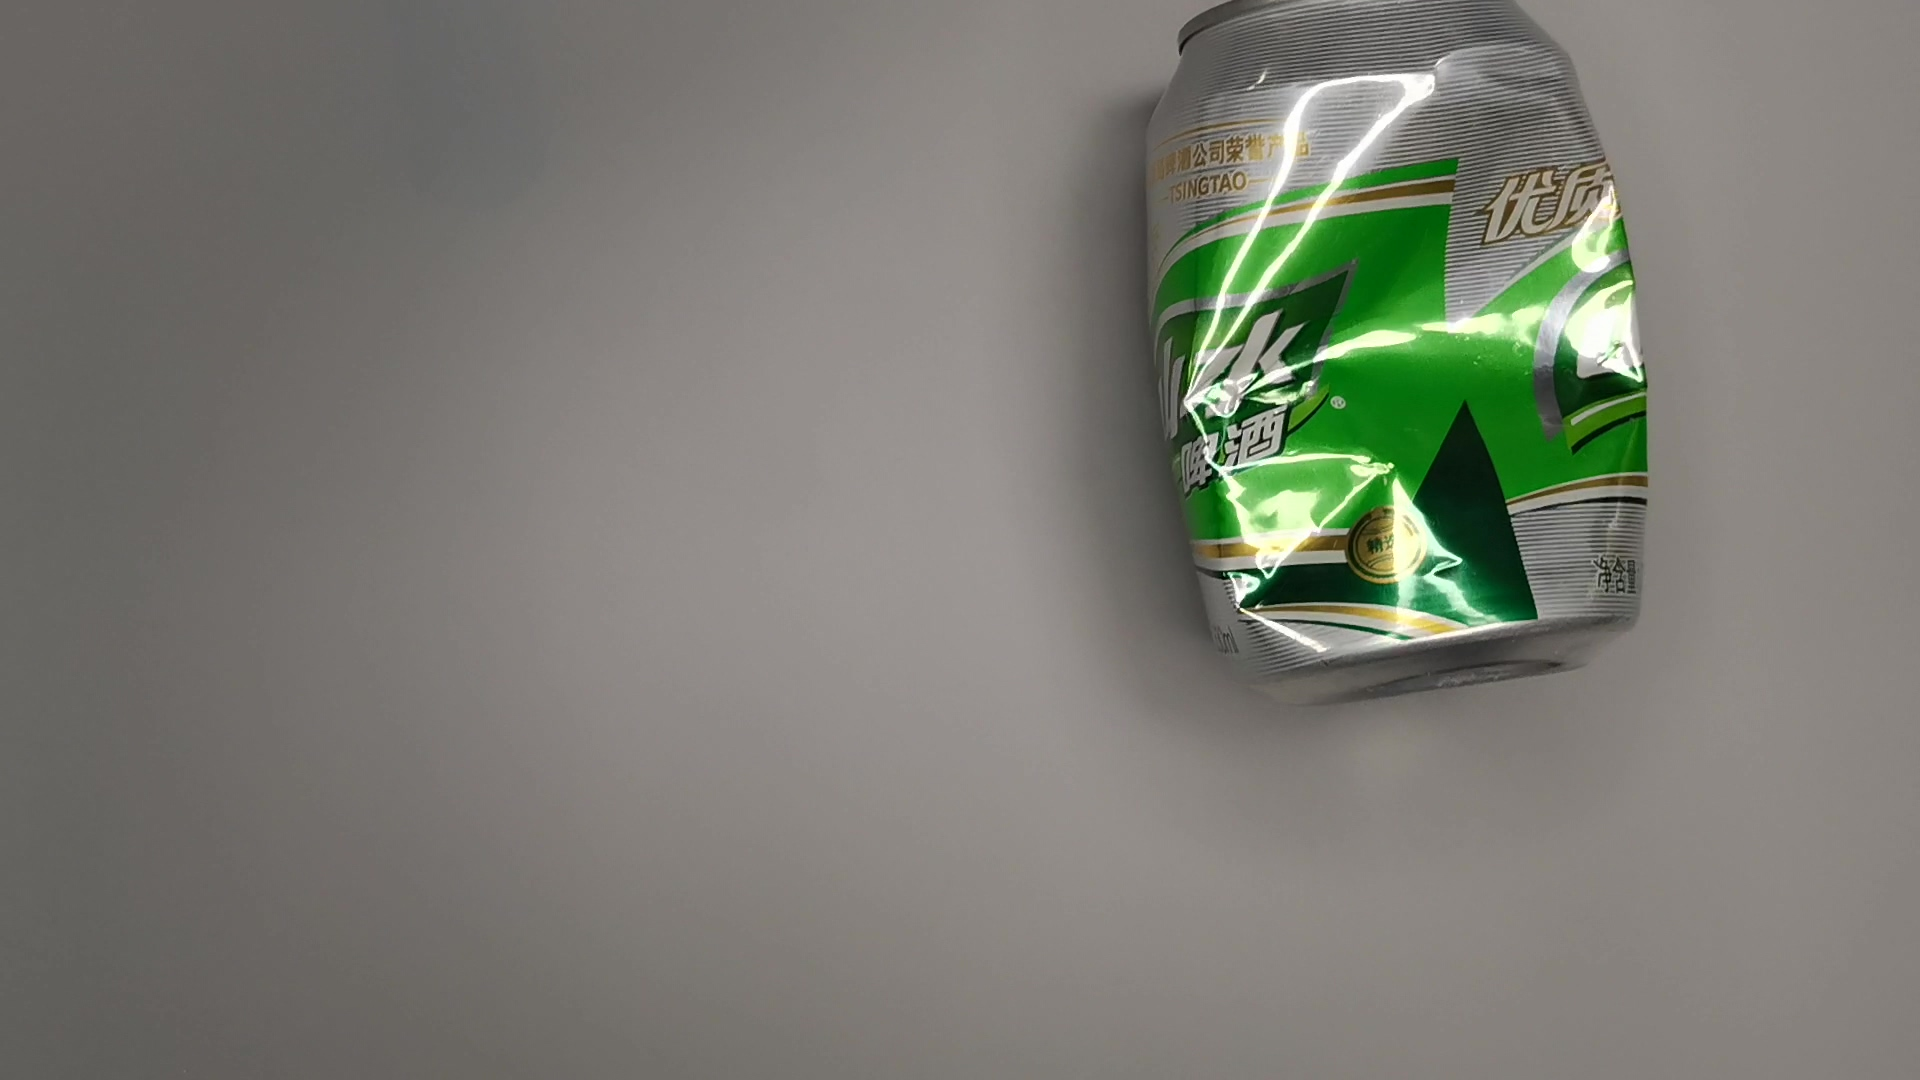can: (1130, 1, 1664, 705)
